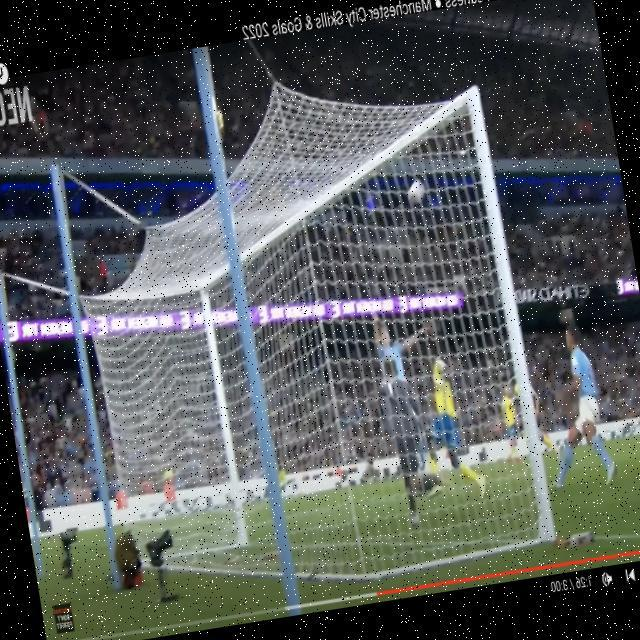Etihad Airways: (539, 280, 592, 304)
